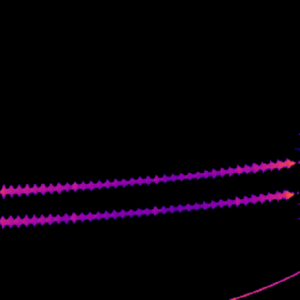insulator: (0, 155, 296, 226)
